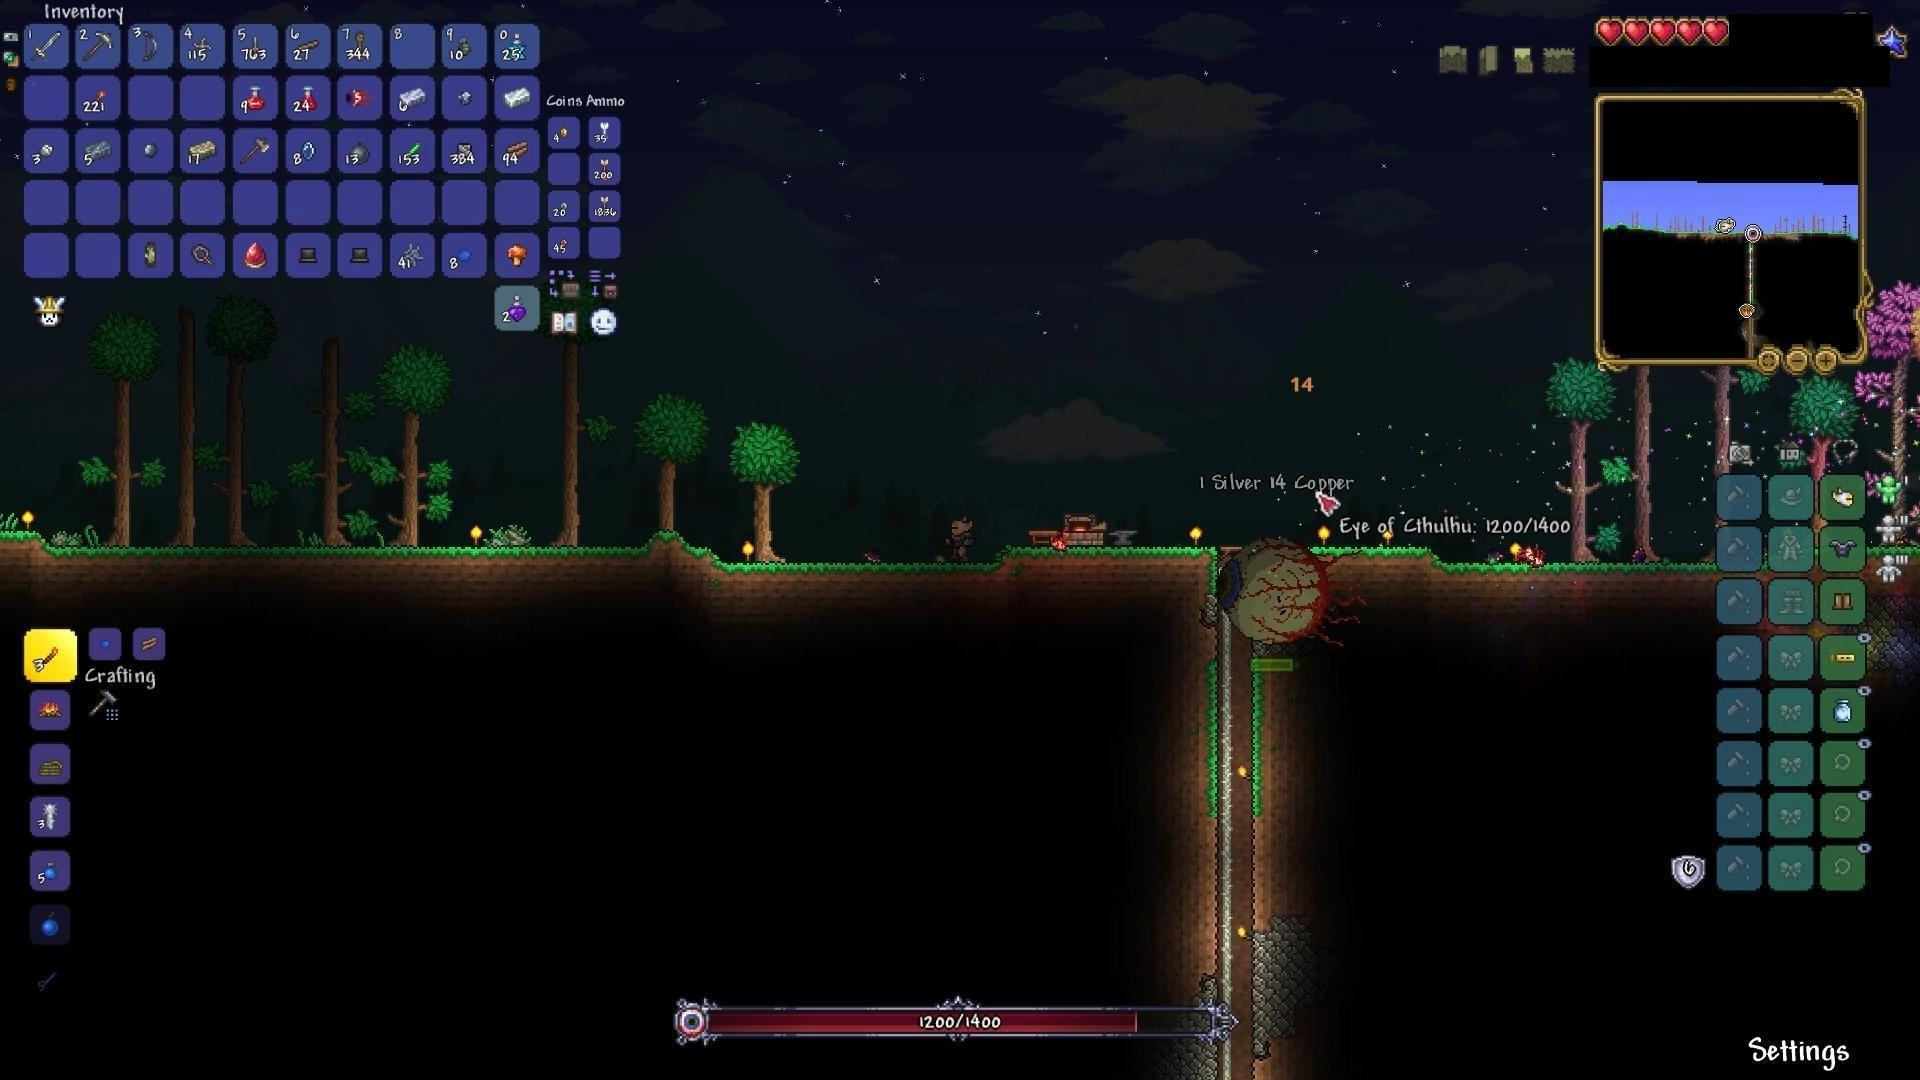dirt: (0, 520, 666, 568), (724, 559, 1002, 615), (1433, 556, 1710, 595), (1196, 624, 1224, 980), (1000, 542, 1218, 587), (1312, 542, 1439, 587), (1249, 665, 1267, 930), (665, 531, 724, 571)
heart: (1702, 17, 1733, 51), (1593, 16, 1626, 46), (1676, 15, 1704, 50), (1650, 16, 1676, 49), (1625, 15, 1651, 44)
stone: (1253, 930, 1270, 1056), (1188, 1035, 1218, 1077)
tree: (87, 311, 144, 556), (1547, 356, 1605, 559), (382, 349, 435, 555), (633, 392, 699, 534), (740, 419, 802, 567)
